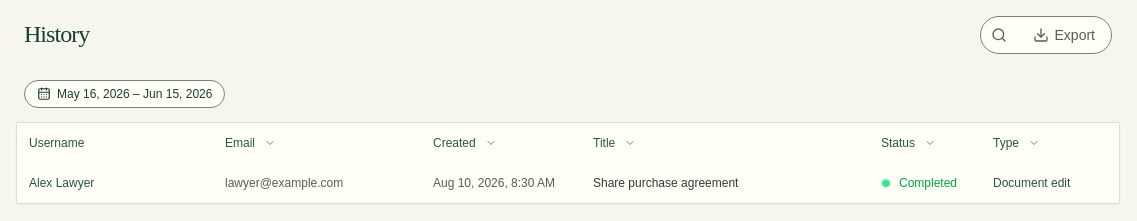
Scenario: HistoryPage › shows a warning popup and stops when the export job fails
Check: the text "Alex Lawyer" is shown, box [29, 175, 94, 191]
Click the button with aria-label "Export history" at (1064, 35), box [1020, 21, 1107, 49]
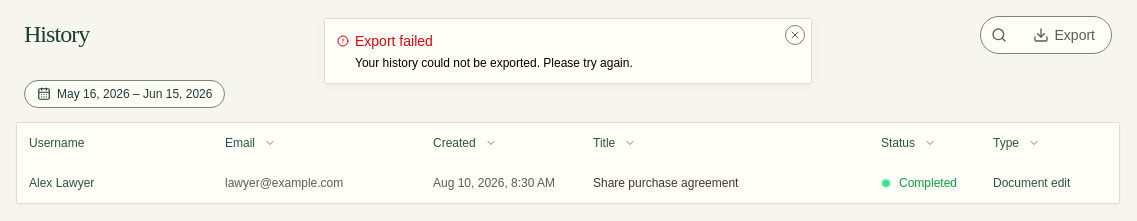
Check: the text "Export failed" is shown, box [337, 33, 433, 49]
Check: the text "Your history could not be exported. Please try again." is shown, box [355, 56, 633, 70]
